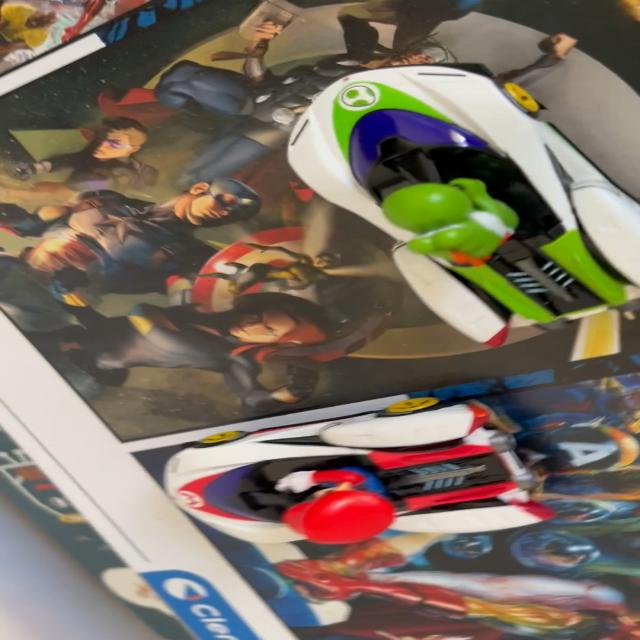mario: (152, 394, 566, 560)
yoshi: (250, 36, 640, 371)
